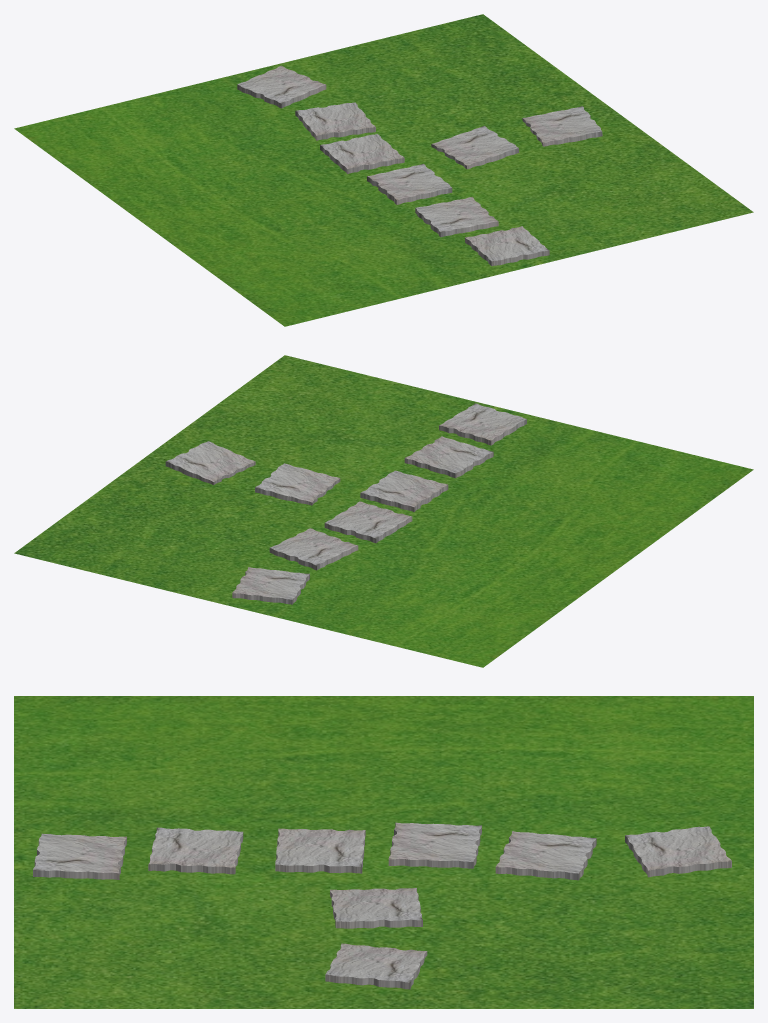
The model's file is pathNES.glb.
The picture shows the model from 3 angles, top to bottom: view 1: azimuth 30°, elevation 25°; view 2: azimuth 150°, elevation 25°; view 3: azimuth 270°, elevation 25°; orthographic projection. The views are drawn at different scales.
Visible parts, largest first — view 1: Plane, Plane.008, Plane.007, Plane.004, Plane.003, Plane.001, Plane.005, Plane.010, Plane.006; view 2: Plane, Plane.010, Plane.008, Plane.003, Plane.004, Plane.005, Plane.001, Plane.006, Plane.007; view 3: Plane, Plane.007, Plane.003, Plane.001, Plane.005, Plane.004, Plane.006, Plane.010, Plane.008.
Part boxes in pixels (left/top/right/bottom): Plane: left=14, top=14, right=753, bottom=326; Plane.008: left=431, top=125, right=519, bottom=169; Plane.007: left=237, top=65, right=326, bottom=108; Plane.004: left=367, top=163, right=452, bottom=204; Plane.003: left=415, top=197, right=498, bottom=237; Plane.001: left=465, top=226, right=549, bottom=266; Plane.005: left=320, top=134, right=404, bottom=173; Plane.010: left=522, top=106, right=602, bottom=146; Plane.006: left=295, top=102, right=375, bottom=140; Plane: left=14, top=355, right=753, bottom=667; Plane.010: left=165, top=441, right=255, bottom=485; Plane.008: left=255, top=463, right=340, bottom=505; Plane.003: left=404, top=436, right=493, bottom=478; Plane.004: left=360, top=470, right=448, bottom=512; Plane.005: left=324, top=501, right=412, bottom=543; Plane.001: left=439, top=403, right=526, bottom=445; Plane.006: left=269, top=528, right=358, bottom=570; Plane.007: left=232, top=567, right=309, bottom=604; Plane: left=14, top=696, right=753, bottom=1008; Plane.007: left=625, top=826, right=731, bottom=877; Plane.003: left=148, top=827, right=243, bottom=874; Plane.001: left=33, top=833, right=126, bottom=879; Plane.005: left=388, top=822, right=481, bottom=868; Plane.004: left=275, top=828, right=365, bottom=873; Plane.006: left=495, top=831, right=596, bottom=880; Plane.010: left=325, top=943, right=427, bottom=989; Plane.008: left=330, top=888, right=422, bottom=928.
Bounding box in the file's own units: 1 × 0.0172 × 1.
7 materials, 7 textured.
